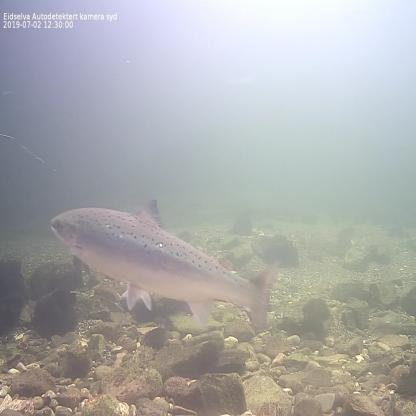salmon: (46, 195, 284, 338)
